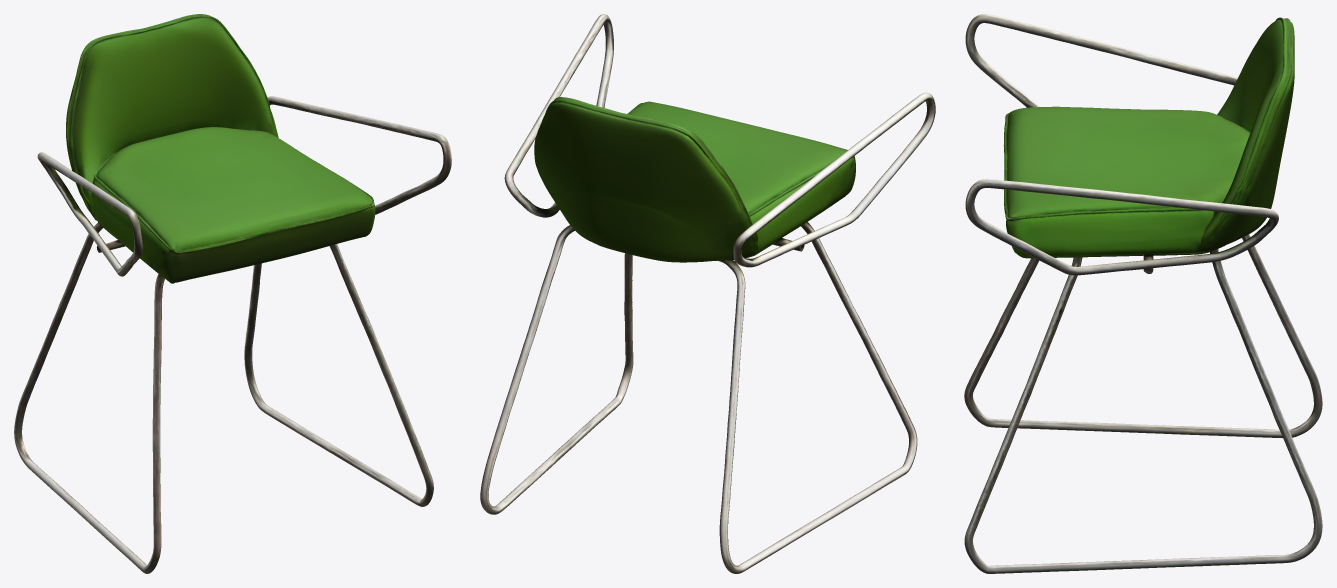
3 views of the same model, side by side, from view 1: azimuth 30°, elevation 25°; view 2: azimuth 150°, elevation 25°; view 3: azimuth 270°, elevation 25° (orthographic). The views are drawn at different scales.
Visible parts, largest first — view 1: root.0, root.1, root.2, root.3, root.4; view 2: root.1, root.2, root.0, root.3, root.4; view 3: root.0, root.2, root.1, root.4, root.3.
Boxes of the visible parts, x1,y1,x2,y2 form: root.0: [91, 127, 375, 283]; root.1: [66, 14, 278, 217]; root.2: [14, 223, 433, 573]; root.3: [37, 152, 142, 276]; root.4: [267, 96, 451, 214]; root.1: [534, 97, 758, 262]; root.2: [480, 222, 917, 573]; root.0: [599, 101, 855, 262]; root.3: [733, 92, 935, 267]; root.4: [504, 14, 613, 217]; root.0: [1003, 106, 1250, 258]; root.2: [964, 234, 1322, 573]; root.1: [1200, 17, 1294, 251]; root.4: [965, 179, 1278, 275]; root.3: [965, 14, 1237, 107].
Size of the model in its own units: 0.4652 by 0.58 by 0.4152.
6 materials, 6 textured.
